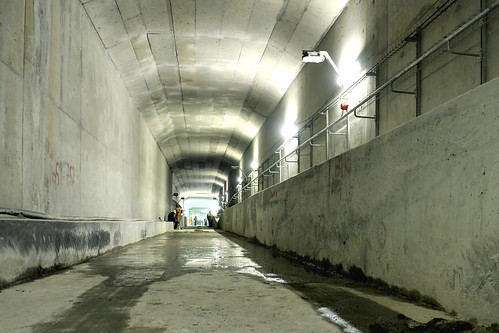tunnel: (1, 1, 422, 328)
